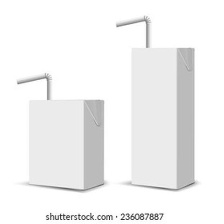carton: (128, 44, 196, 193), (23, 94, 106, 192)
drinking_straw: (112, 10, 154, 49), (10, 69, 53, 100)
